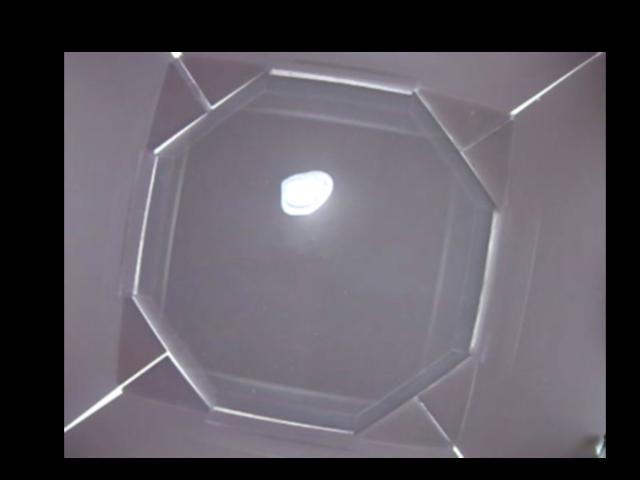Pebble: (281, 167, 333, 213)
